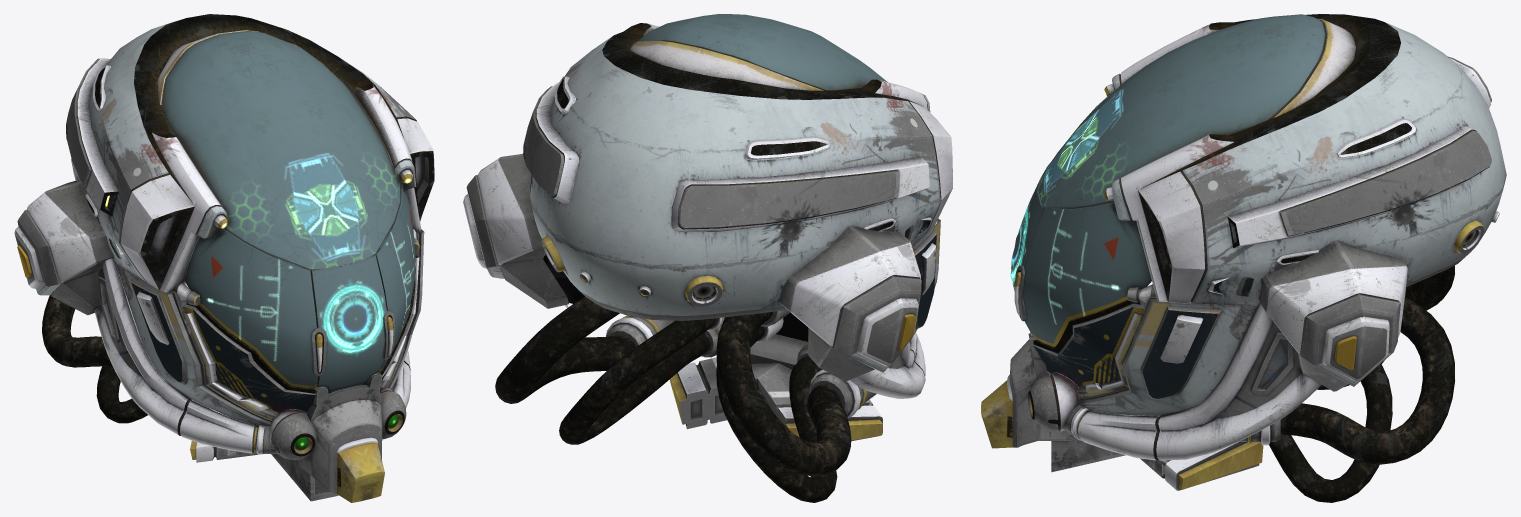
Rendered from khronos_damaged_helmet.glb.
The picture shows the model from 3 angles, left to right: view 1: azimuth 30°, elevation 25°; view 2: azimuth 150°, elevation 25°; view 3: azimuth 270°, elevation 25°; orthographic projection. The views are drawn at different scales.
Visible parts, largest first — view 1: node_damagedHelmet_-6514; view 2: node_damagedHelmet_-6514; view 3: node_damagedHelmet_-6514.
Part boxes in pixels (box(x1,y1,x2,y2)): node_damagedHelmet_-6514: box(14, 14, 434, 502); node_damagedHelmet_-6514: box(463, 14, 952, 502); node_damagedHelmet_-6514: box(981, 14, 1506, 502).
Size of the model in its own units: 1.89 by 1.8 by 2.
Materials: 1 (1 with a texture image).
